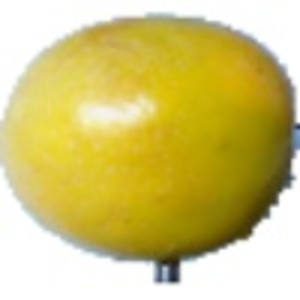maracujá: (1, 11, 300, 286)
